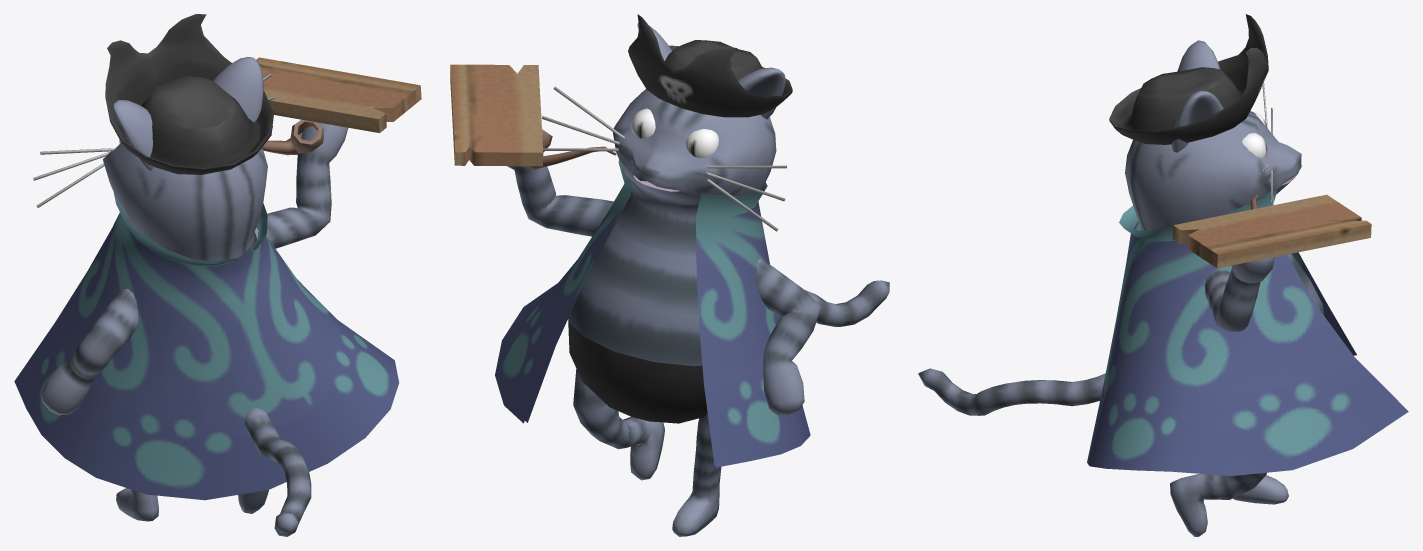
Rendered from neko_walk_c_03.fbx.
The picture shows the model from 3 angles, left to right: view 1: azimuth 30°, elevation 25°; view 2: azimuth 150°, elevation 25°; view 3: azimuth 270°, elevation 25°; orthographic projection. The views are drawn at different scales.
Visible parts, largest first — view 1: W_c_03; view 2: W_c_03; view 3: W_c_03.
Part boxes in pixels (box(x1,y1,x2,y2)): W_c_03: box(14, 14, 421, 536); W_c_03: box(450, 14, 889, 536); W_c_03: box(918, 14, 1408, 536).
Bounding box in the file's own units: 1.54 × 1.98 × 1.84.
Materials: 1 (1 with a texture image).
